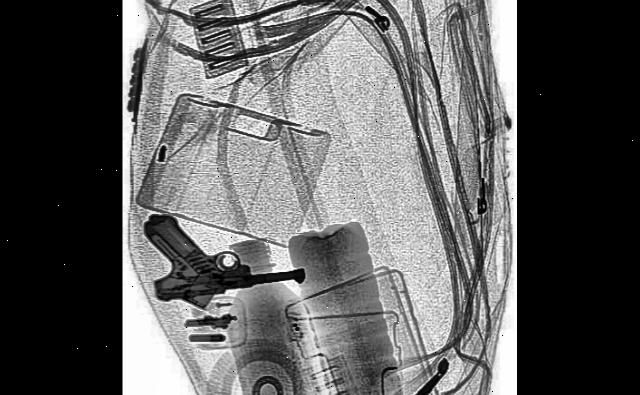Gun: (142, 216, 305, 318)
